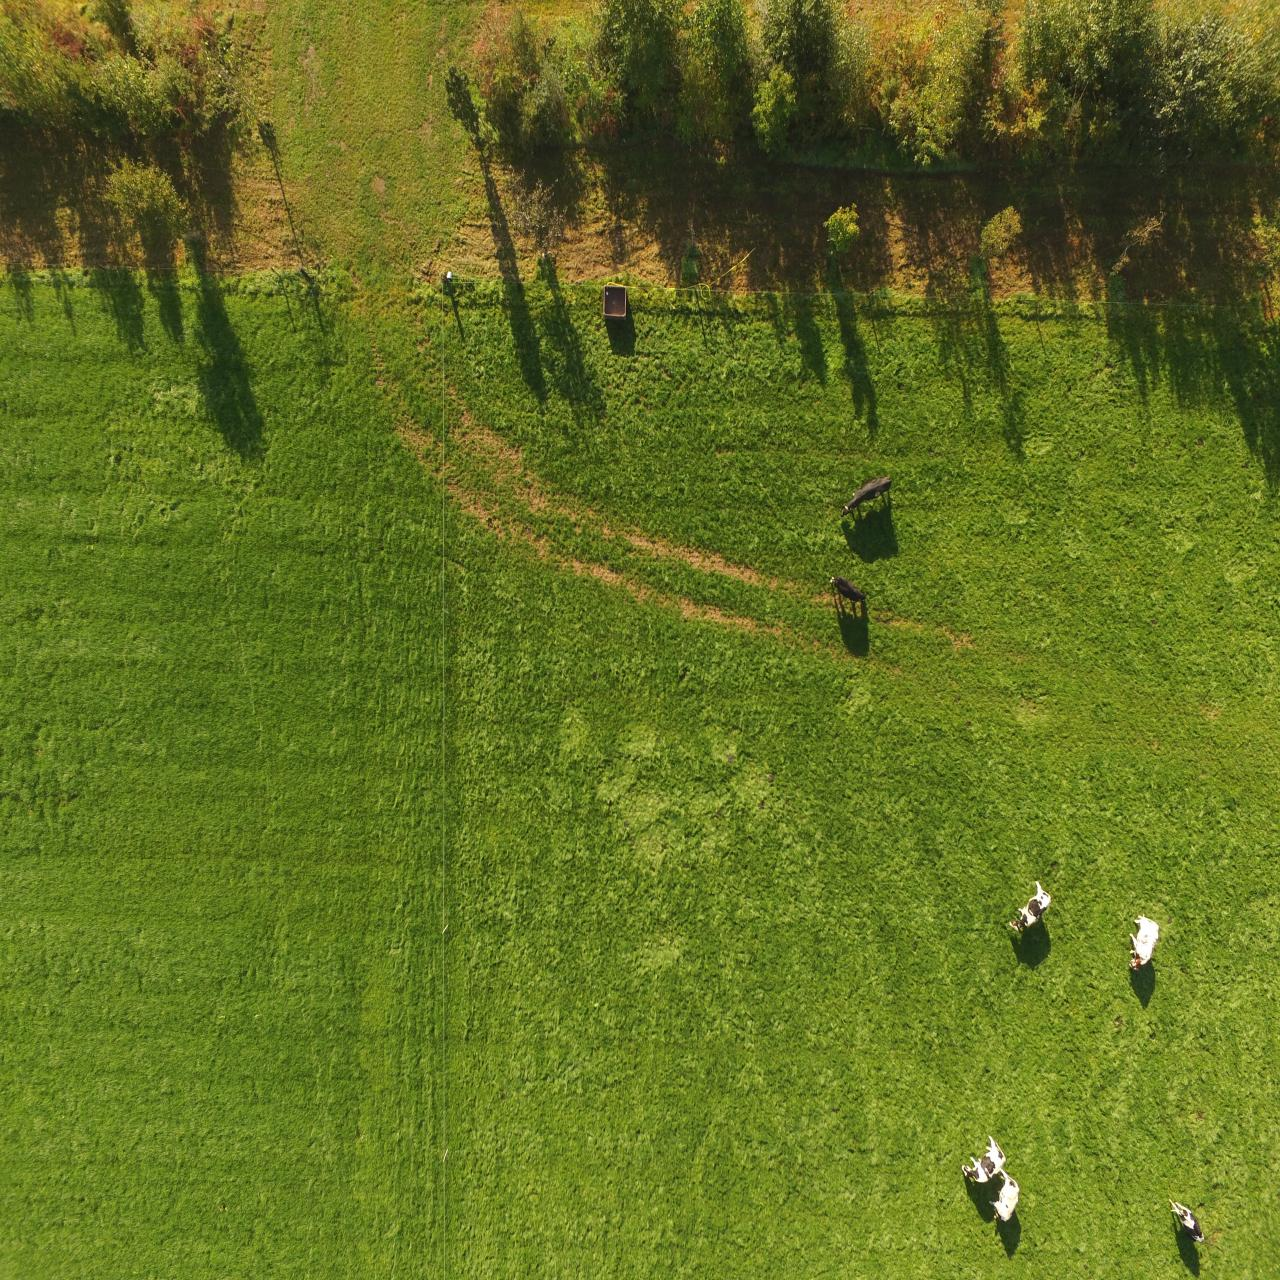cow: (1118, 908, 1173, 986), (1002, 879, 1062, 945), (953, 1131, 1015, 1189), (836, 474, 896, 522), (990, 1171, 1029, 1238), (826, 570, 872, 620), (1171, 1196, 1217, 1245)
